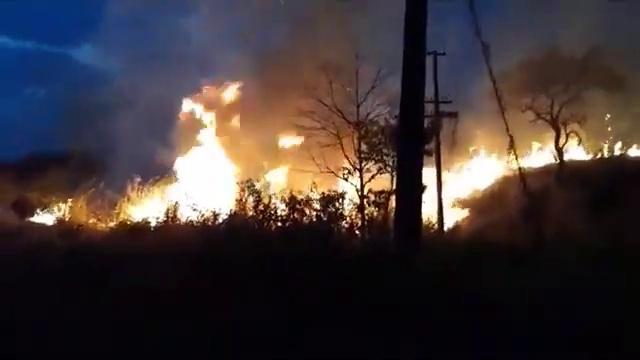fire: (172, 147, 237, 214), (425, 160, 497, 215)
